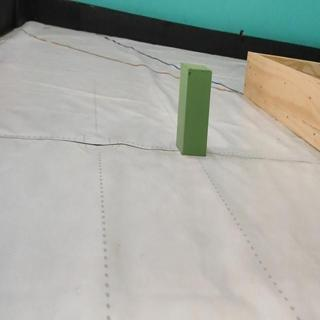greenbox: (175, 61, 213, 157)
